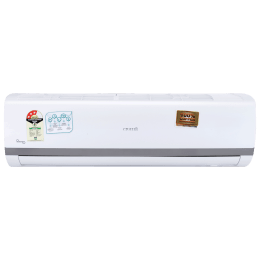ac: (2, 86, 260, 175)
